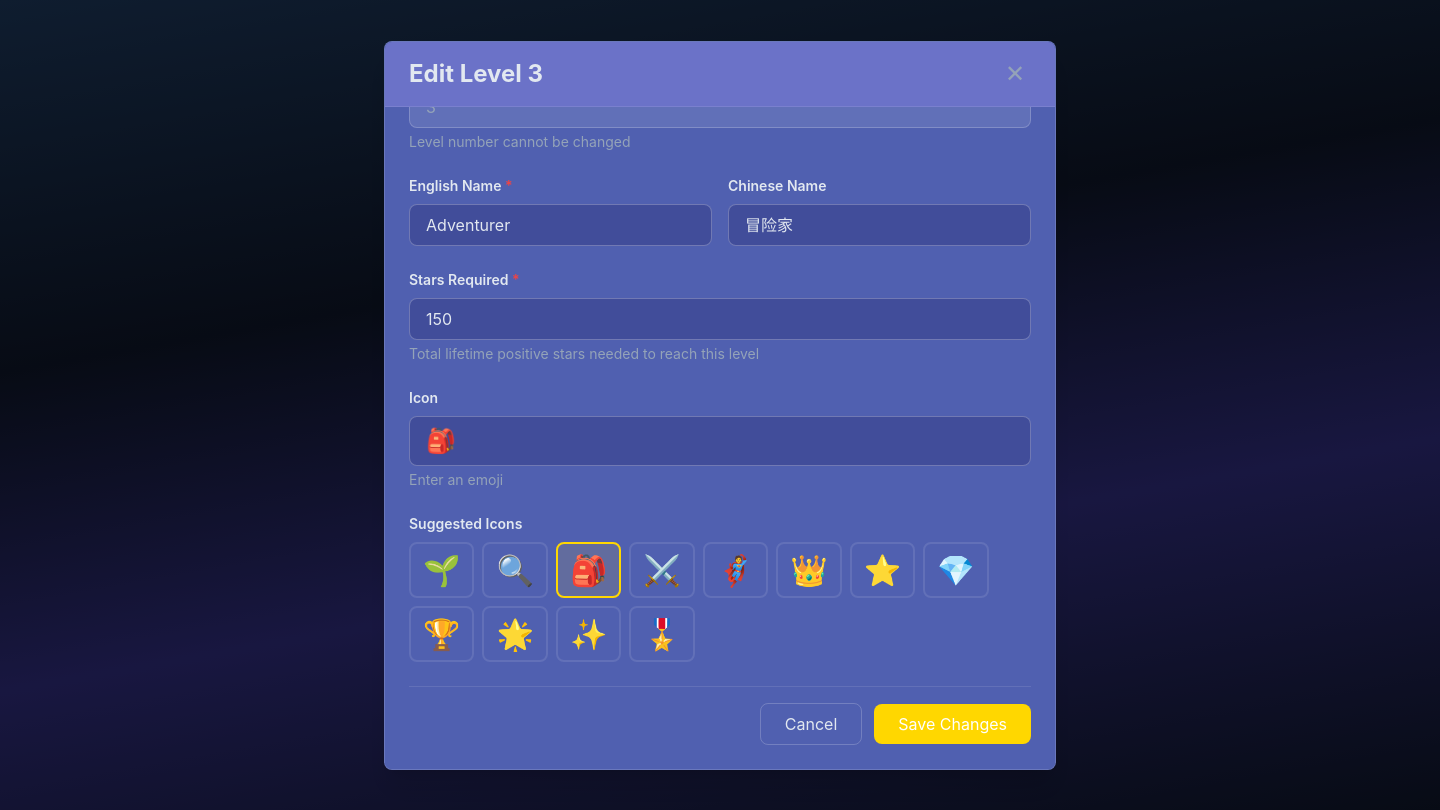
LevelFormModal › Form Interaction › should allow selecting icon from suggestions
(page scrolled)
Click the button "🏆" at (442, 634), box x1=409 y1=606 x2=474 y2=662
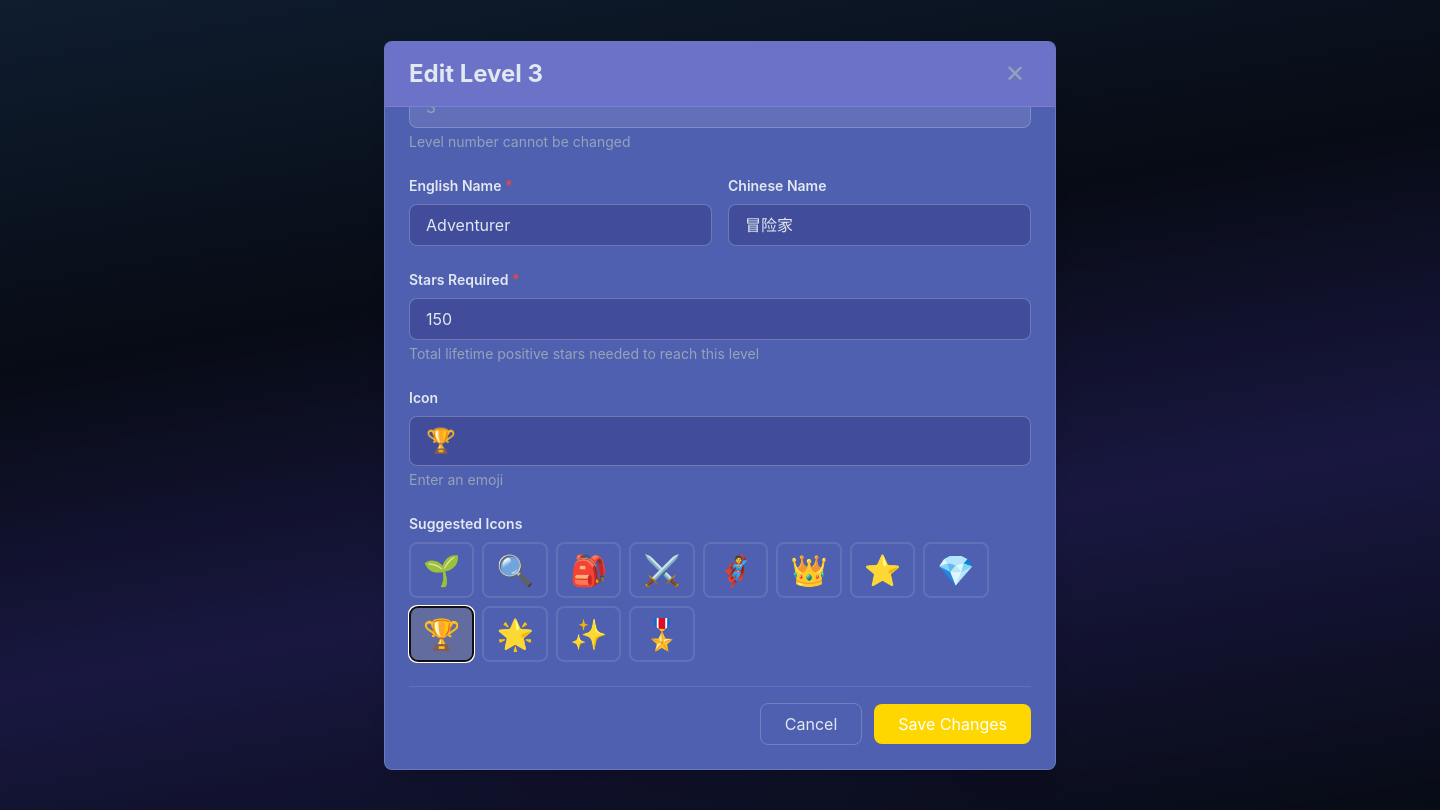
Check: the 3rd field showing "🏆" holds "🏆", box x1=409 y1=416 x2=1031 y2=466
